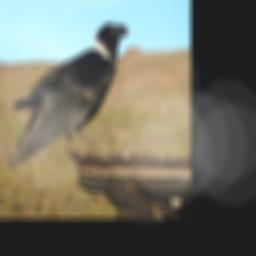Crow: (7, 18, 130, 170)
